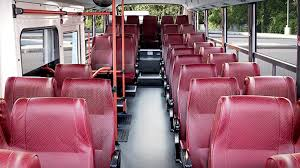seat: (214, 91, 296, 166)
